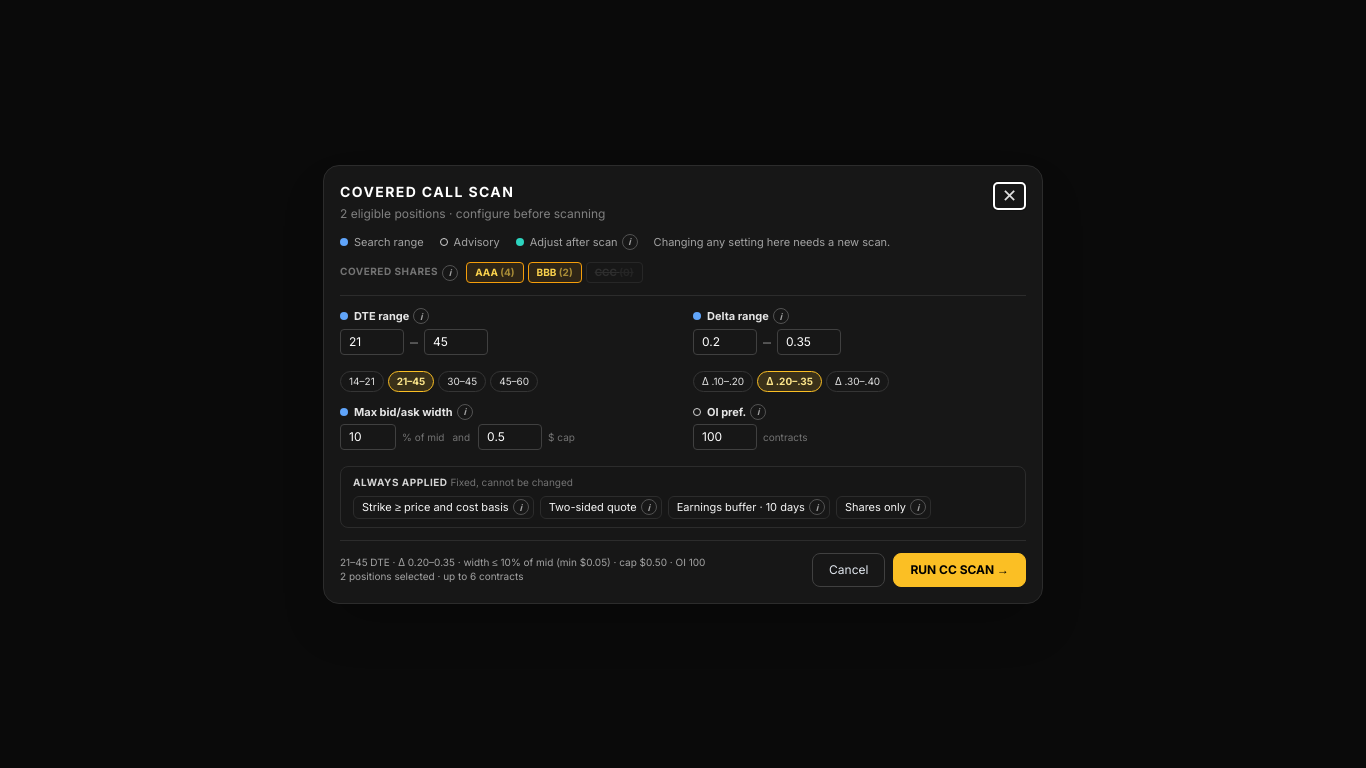
Test: invalid ranges are announced and block Run › shows the message beside the field in a polite live region and disables Run, then clears it
The image size is (1366, 768).
Replace the text in the field named "Max DTE" with "10": (456, 342) [424, 328, 488, 354]
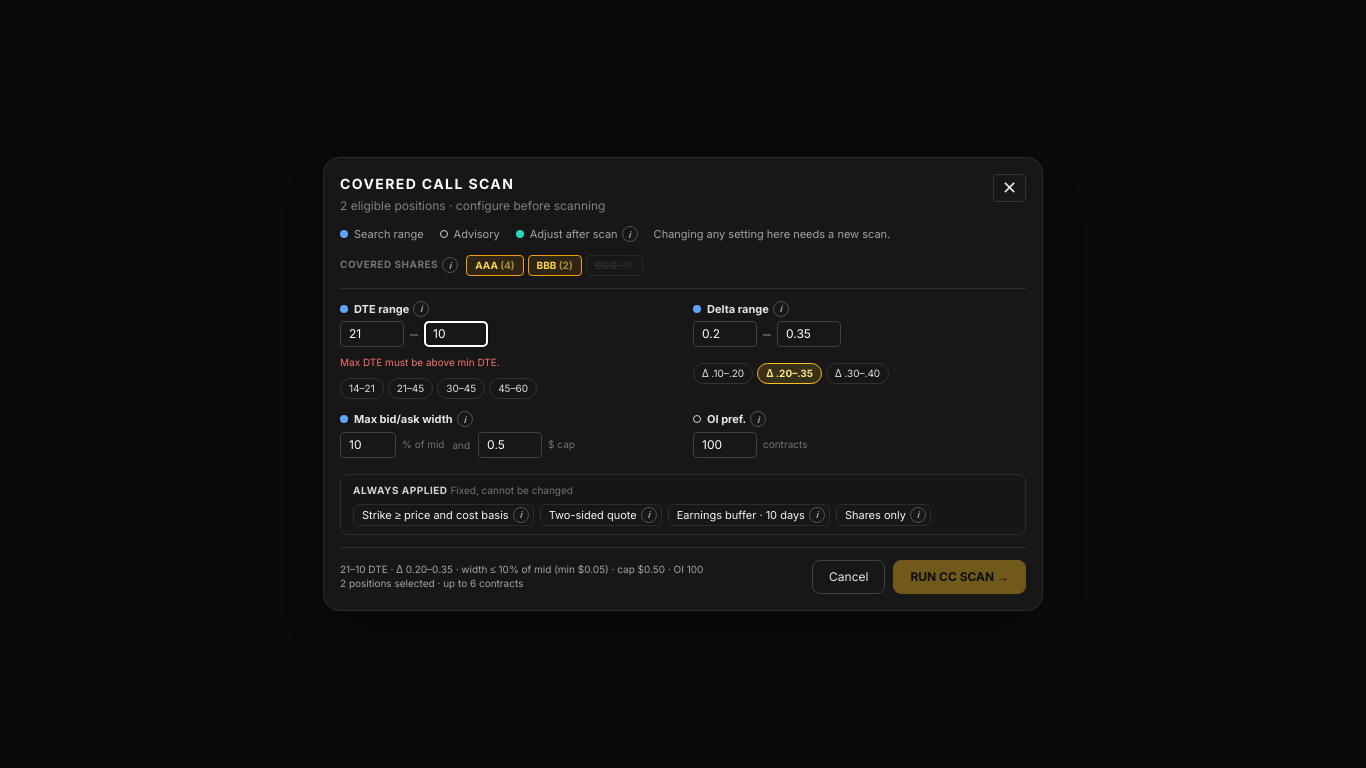
Expected: the button "RUN CC SCAN →" is disabled, [893, 560, 1026, 594]
Replace the text in the field named "Max DTE" with "45": (456, 334) [424, 321, 488, 347]
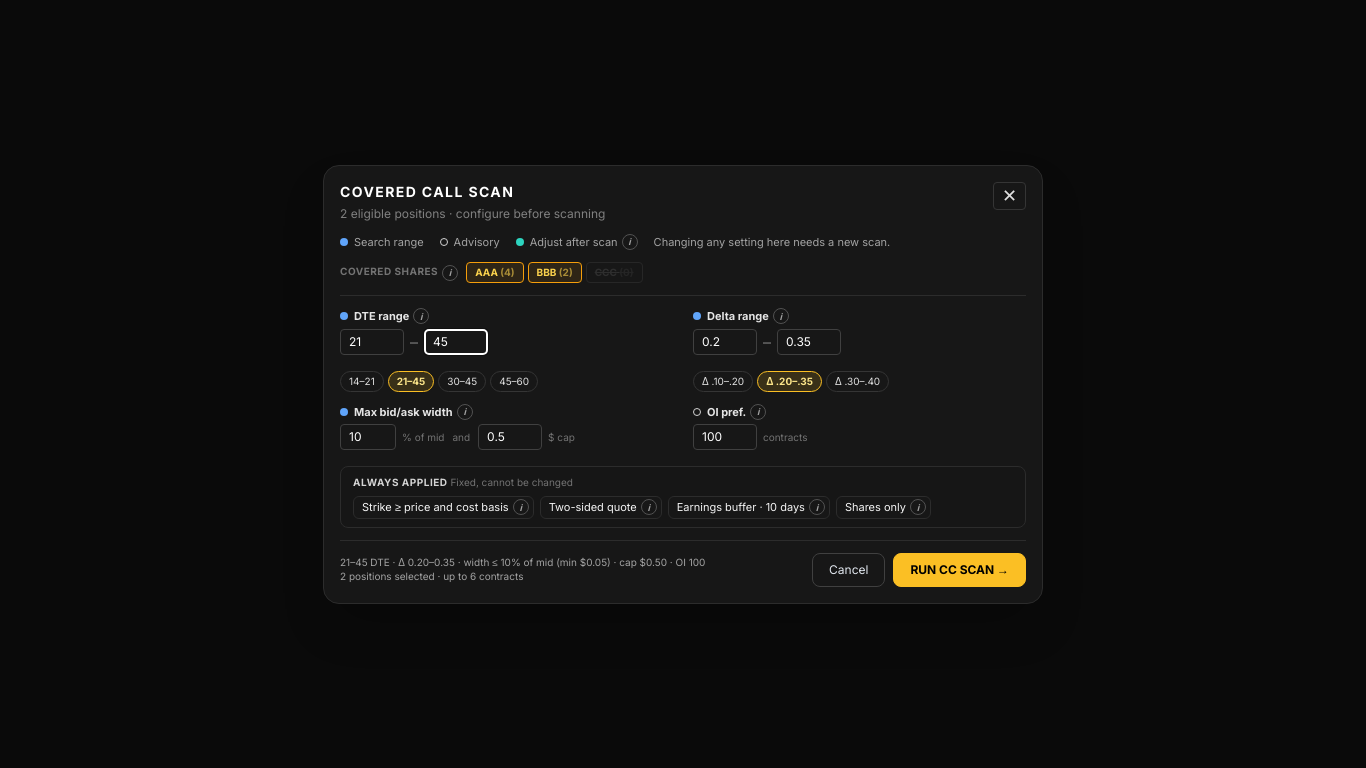
Expected: the text "Max DTE must be above min DTE." is gone
Expected: the button "RUN CC SCAN →" is enabled, [893, 552, 1026, 586]
